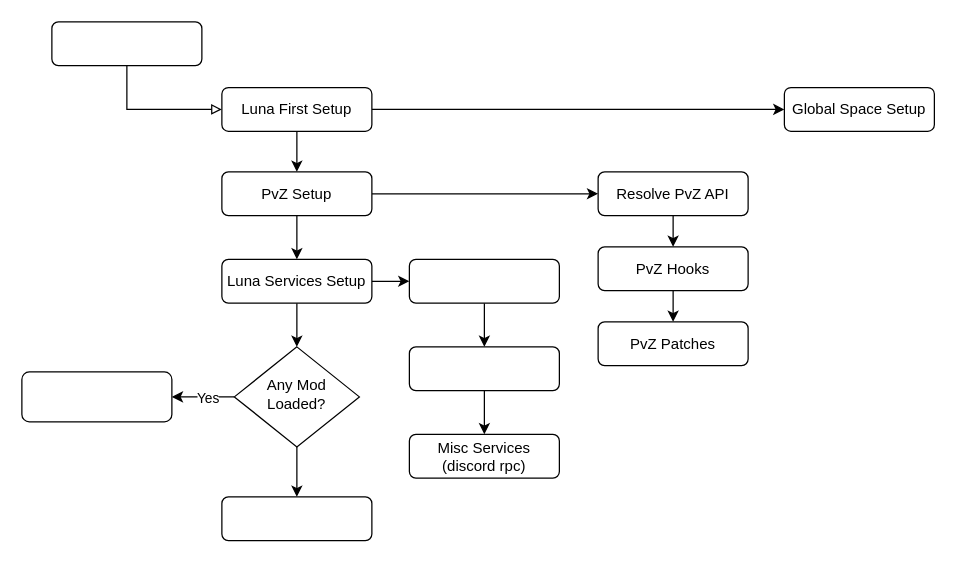
Some shapes in this 956 by 563 pixel diagram are drawn without their labels. Each missing label, with the box of its shape:
DllMain: (51, 21, 202, 66)
Execute Mods: (21, 371, 172, 422)
Lua Setup: (408, 346, 559, 391)
Mods Collection: (408, 258, 559, 303)
New thread to handle core loop logics: (221, 496, 372, 541)
